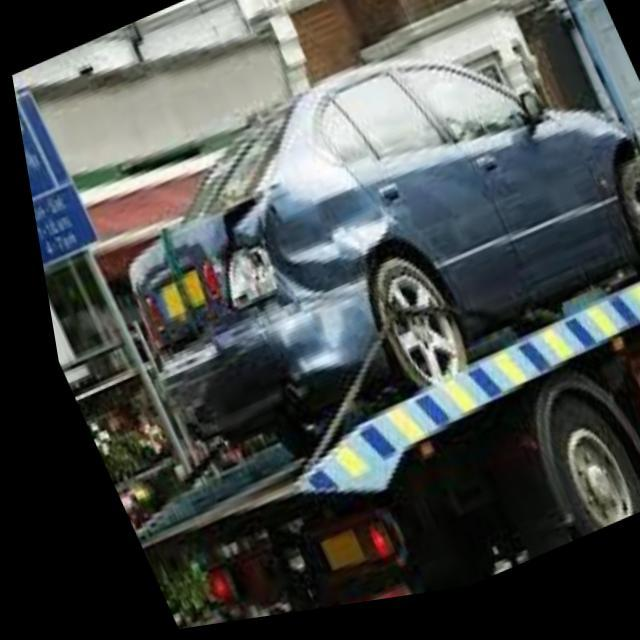dent: (198, 192, 391, 387)
lamp broken: (216, 250, 266, 313)
